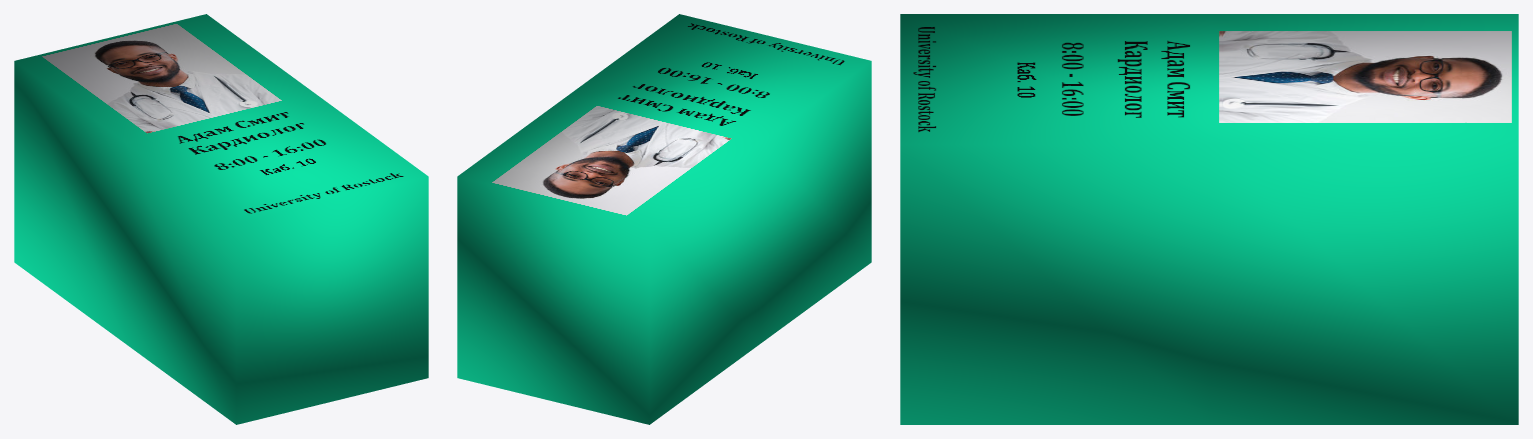
File: cadriolog_model.glb
3 renders of one model, left to right at view 1: azimuth 30°, elevation 25°; view 2: azimuth 150°, elevation 25°; view 3: azimuth 270°, elevation 25°, orthographic. The views are drawn at different scales.
Parts seen in each view (by area): view 1: Cube; view 2: Cube; view 3: Cube.
Boxes of the visible parts, box(x1,y1,x2,y2) form: Cube: box(14, 14, 428, 424); Cube: box(457, 14, 871, 424); Cube: box(900, 14, 1518, 424).
Size of the model in its own units: 2 by 2 by 4.
Materials: 1 (1 with a texture image).
